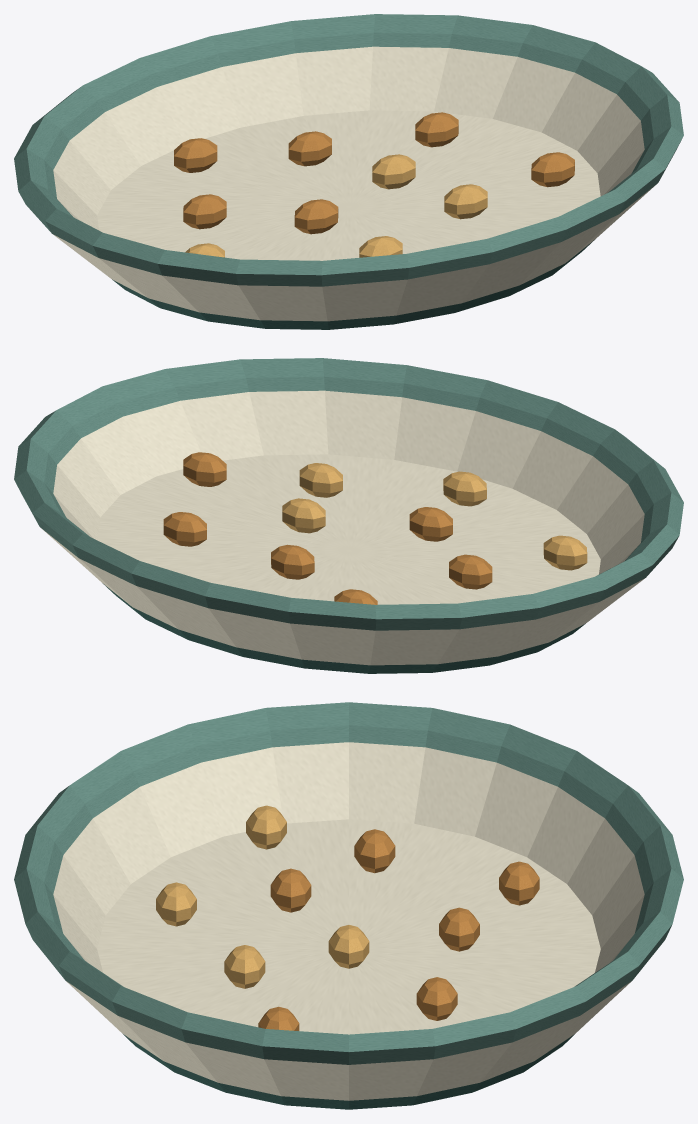
Rendered from food_bowl_low.obj.
3 renders of one model, top to bottom at view 1: azimuth 30°, elevation 25°; view 2: azimuth 150°, elevation 25°; view 3: azimuth 270°, elevation 25°, orthographic. The views are drawn at different scales.
Parts seen in each view (by area): view 1: food_bowl_low; view 2: food_bowl_low; view 3: food_bowl_low.
Part boxes in pixels (bbox=[...]): food_bowl_low: bbox=[14, 14, 683, 329]; food_bowl_low: bbox=[14, 358, 683, 673]; food_bowl_low: bbox=[14, 702, 683, 1109].
Size of the model in its own units: 13.3 by 2.05 by 10.91.
Materials: 1 (1 with a texture image).
